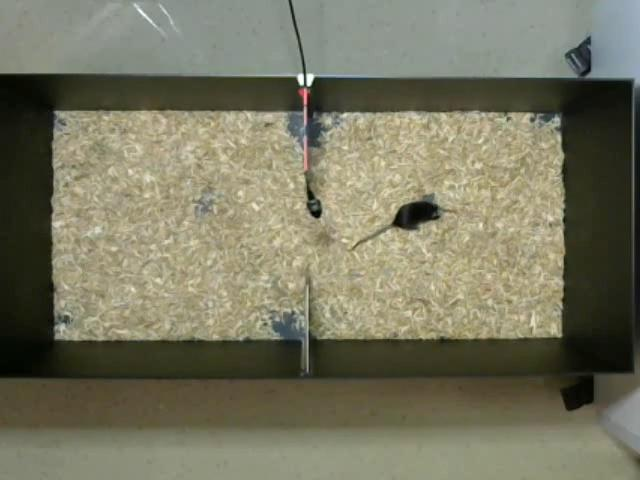rat: (348, 202, 441, 252)
